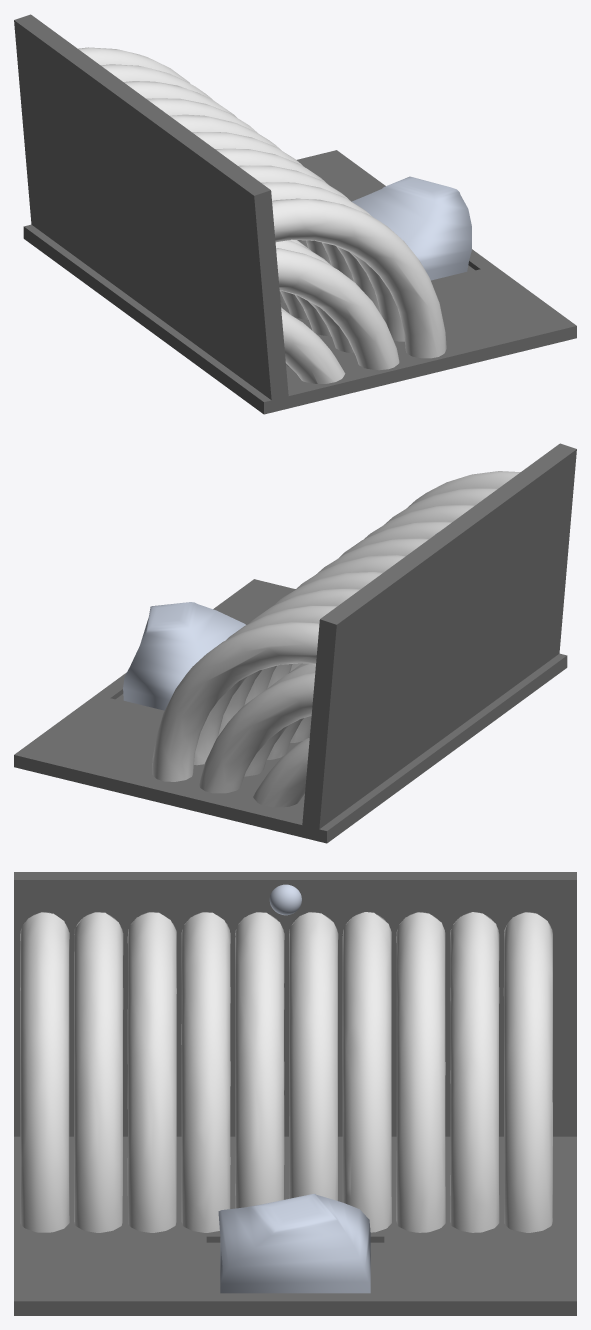
Rendered from laptop.glb.
3 renders of one model, top to bottom at view 1: azimuth 30°, elevation 25°; view 2: azimuth 150°, elevation 25°; view 3: azimuth 270°, elevation 25°, orthographic. The views are drawn at different scales.
Visible parts, largest first — view 1: Plane.001, BezierCircle.001, Plane, Plane.002; view 2: Plane.001, BezierCircle.001, Plane, Plane.002; view 3: BezierCircle.001, Plane, Plane.001, Plane.002, Sphere.
Boxes of the visible parts, box(x1,y1,x2,y2) form: Plane.001: box(14, 14, 289, 411); BezierCircle.001: box(78, 47, 446, 383); Plane: box(23, 150, 576, 414); Plane.002: box(352, 176, 471, 280); Plane.001: box(301, 443, 576, 840); BezierCircle.001: box(152, 471, 520, 807); Plane: box(14, 579, 567, 843); Plane.002: box(123, 602, 245, 710); BezierCircle.001: box(20, 912, 552, 1232); Plane: box(14, 1136, 576, 1315); Plane.001: box(14, 872, 576, 1136); Plane.002: box(218, 1194, 370, 1293); Sphere: box(269, 884, 301, 915).
Bounding box in the file's own units: 1.97 × 1.3 × 2.54.
